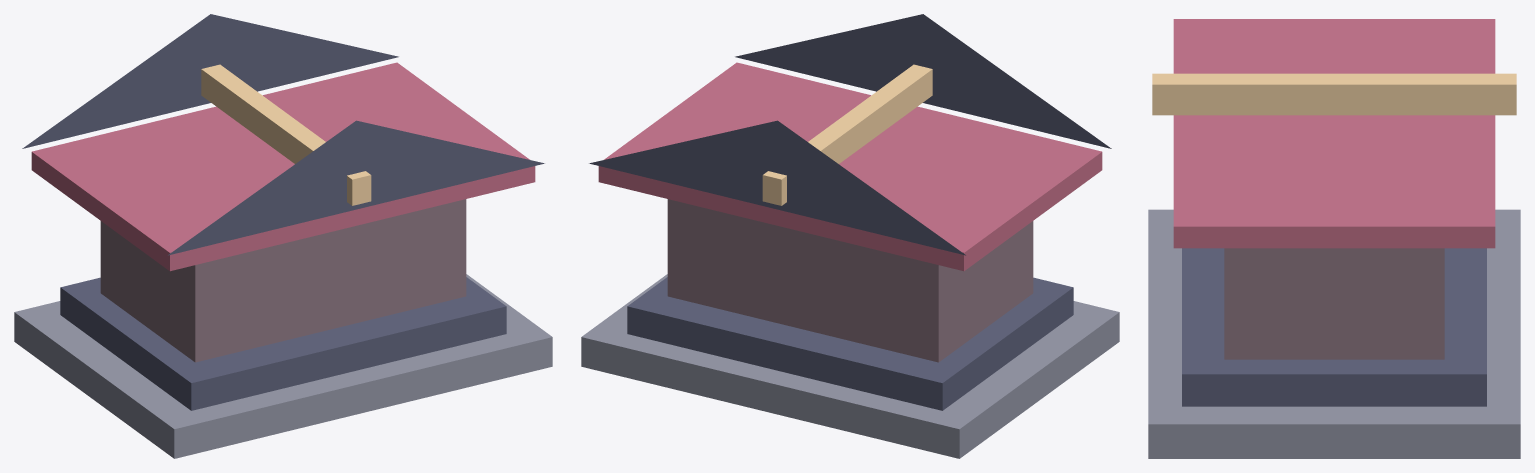
The model's file is dojo_kitsune_shrine_altar_lod1.gltf.
3 views of the same model, side by side, from view 1: azimuth 30°, elevation 25°; view 2: azimuth 150°, elevation 25°; view 3: azimuth 270°, elevation 25° (orthographic). The views are drawn at different scales.
Visible parts, largest first — view 1: dojo_kitsune_shrine_altar_lod1; view 2: dojo_kitsune_shrine_altar_lod1; view 3: dojo_kitsune_shrine_altar_lod1.
Part boxes in pixels (bbox=[...]): dojo_kitsune_shrine_altar_lod1: bbox=[14, 14, 552, 458]; dojo_kitsune_shrine_altar_lod1: bbox=[581, 14, 1119, 458]; dojo_kitsune_shrine_altar_lod1: bbox=[1148, 19, 1520, 458].
Size of the model in its own units: 6 by 4.35 by 4.4.
